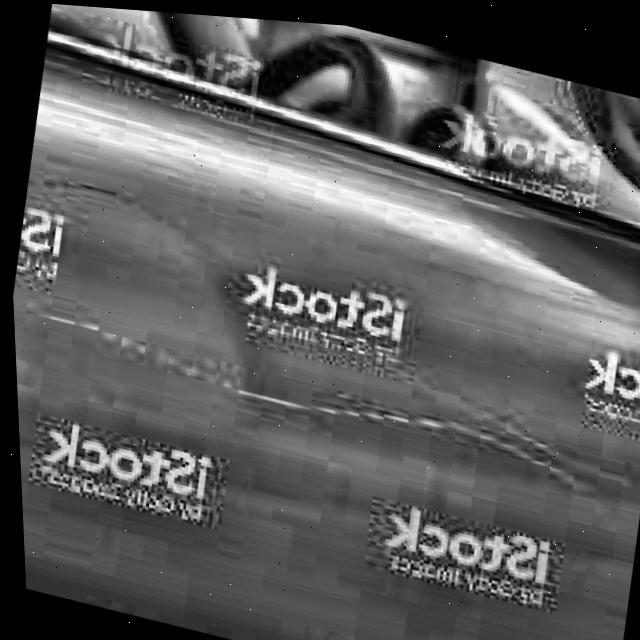door_scratch: (13, 288, 630, 494)
